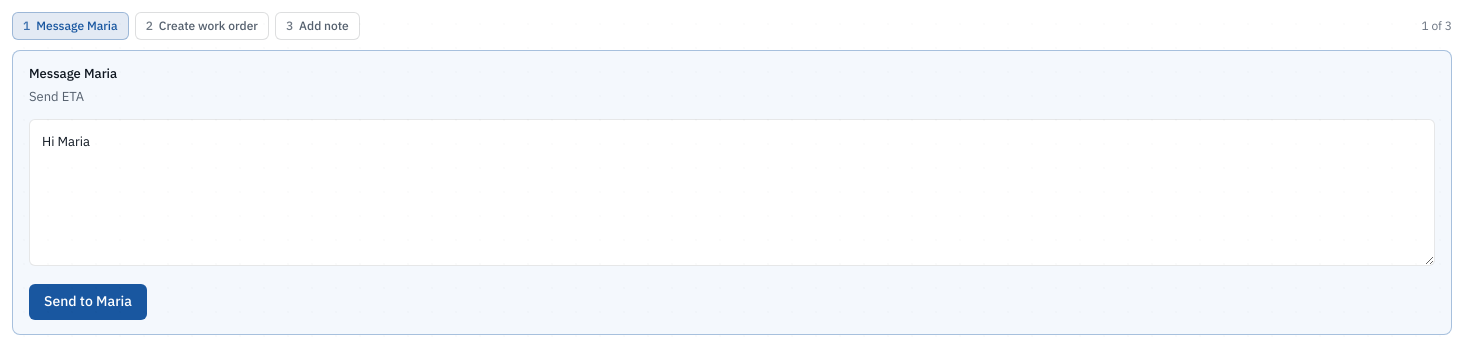
it: Flip-through action card (one card + tabs, not a stack) › clicking a tab flips the visible card
The image size is (1464, 352).
What coordinates should you click on to do the following:
click the tab with test id "inbox-action-tab-2"
I would click on:
 (317, 26)
Its box is [275, 12, 360, 40].
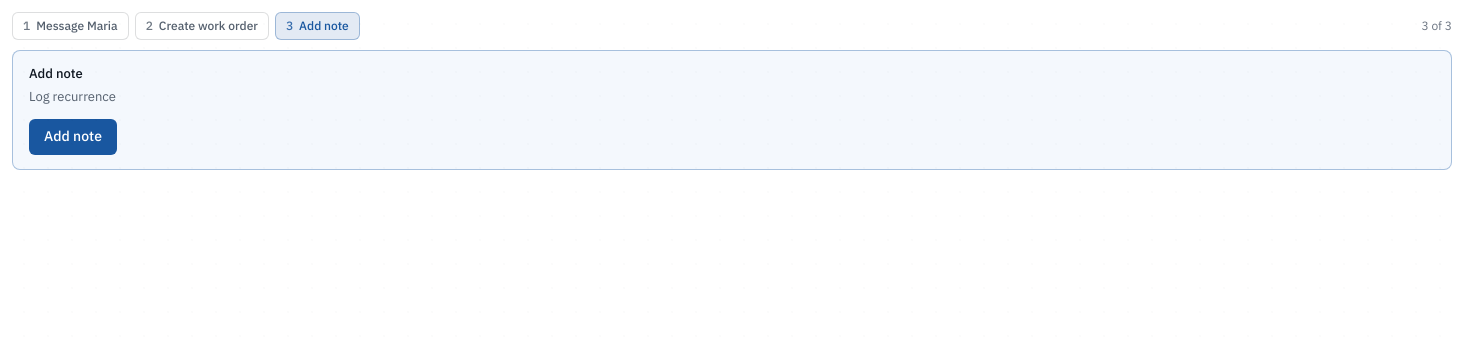
Check: the text with test id "inbox-action-tabs-counter" reads "3 of 3", box [1421, 17, 1452, 35]
